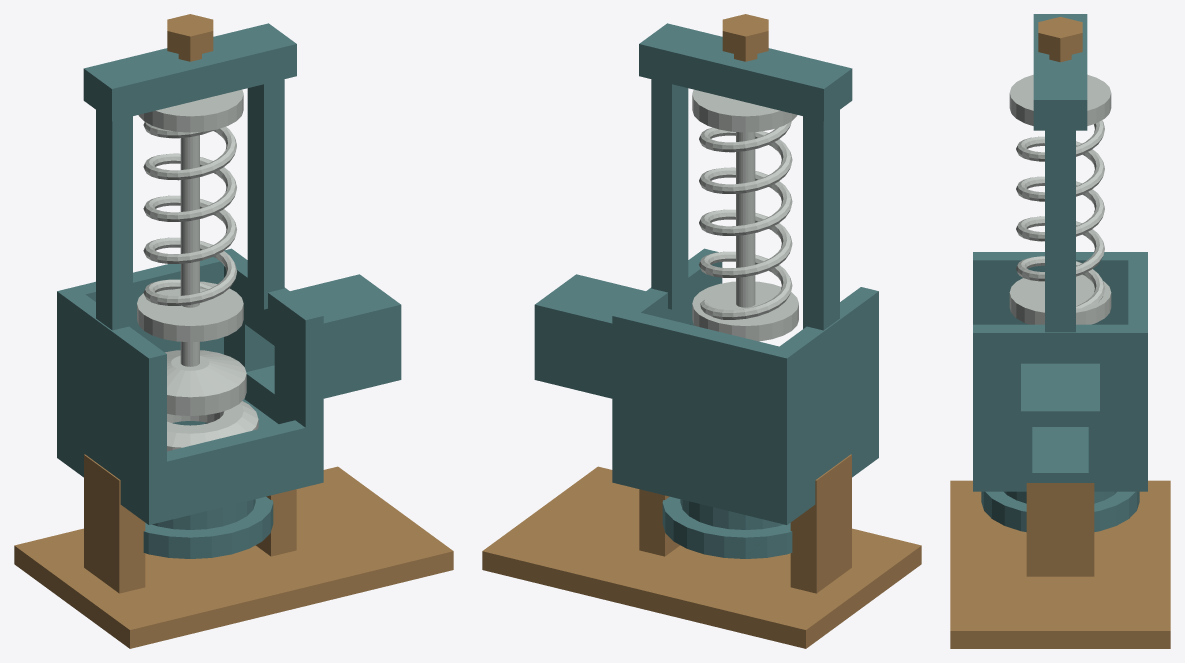
3 renders of one model, left to right at view 1: azimuth 30°, elevation 25°; view 2: azimuth 150°, elevation 25°; view 3: azimuth 270°, elevation 25°, orthographic. The views are drawn at different scales.
Parts seen in each view (by area): view 1: WholeCutawayChamberAndOpenSideBranch, WholeFiniteDisplayPlinth, WholeUpperBonnetCrosshead, WholeUpperBonnetPost1, WholeUpperBonnetPost-1, WholeRaisedDiskAndContinuousValveStem, WholeContinuousOpenCoilSpring, WholeSideBodySupport-1, WholeLowerBoredInletAndFlange, LowerWholeSpringSeat, UpperWholeSpringSeat, WholeIndependentAnnularPoppetSeat (+2 smaller); view 2: WholeCutawayChamberAndOpenSideBranch, WholeFiniteDisplayPlinth, WholeUpperBonnetCrosshead, WholeUpperBonnetPost1, WholeContinuousOpenCoilSpring, WholeUpperBonnetPost-1, WholeSideBodySupport-1, WholeLowerBoredInletAndFlange, LowerWholeSpringSeat, UpperWholeSpringSeat, WholeRaisedDiskAndContinuousValveStem, WholeUpperAdjustingStemAndHexCap (+1 smaller); view 3: WholeCutawayChamberAndOpenSideBranch, WholeFiniteDisplayPlinth, WholeSideBodySupport1, WholeUpperBonnetPost1, WholeContinuousOpenCoilSpring, WholeUpperBonnetCrosshead, WholeLowerBoredInletAndFlange, LowerWholeSpringSeat, UpperWholeSpringSeat, WholeUpperAdjustingStemAndHexCap.
Part boxes in pixels (x1=…): WholeCutawayChamberAndOpenSideBranch: x1=57, y1=248, x2=401, y2=524; WholeFiniteDisplayPlinth: x1=14, y1=466, x2=453, y2=648; WholeUpperBonnetCrosshead: x1=83, y1=23, x2=296, y2=121; WholeUpperBonnetPost1: x1=247, y1=79, x2=284, y2=309; WholeUpperBonnetPost-1: x1=96, y1=110, x2=132, y2=330; WholeRaisedDiskAndContinuousValveStem: x1=165, y1=135, x2=246, y2=415; WholeContinuousOpenCoilSpring: x1=143, y1=122, x2=236, y2=305; WholeSideBodySupport-1: x1=84, y1=454, x2=145, y2=593; WholeLowerBoredInletAndFlange: x1=143, y1=496, x2=273, y2=558; LowerWholeSpringSeat: x1=137, y1=281, x2=243, y2=342; UpperWholeSpringSeat: x1=138, y1=89, x2=243, y2=132; WholeIndependentAnnularPoppetSeat: x1=167, y1=401, x2=258, y2=451; WholeCutawayChamberAndOpenSideBranch: x1=534, y1=248, x2=878, y2=524; WholeFiniteDisplayPlinth: x1=482, y1=466, x2=921, y2=648; WholeUpperBonnetCrosshead: x1=639, y1=23, x2=852, y2=121; WholeUpperBonnetPost1: x1=651, y1=79, x2=688, y2=309; WholeContinuousOpenCoilSpring: x1=699, y1=121, x2=792, y2=319; WholeUpperBonnetPost-1: x1=803, y1=110, x2=839, y2=330; WholeSideBodySupport-1: x1=790, y1=454, x2=851, y2=593; WholeLowerBoredInletAndFlange: x1=662, y1=496, x2=792, y2=558; LowerWholeSpringSeat: x1=692, y1=281, x2=798, y2=341; UpperWholeSpringSeat: x1=692, y1=89, x2=797, y2=132; WholeRaisedDiskAndContinuousValveStem: x1=736, y1=132, x2=755, y2=307; WholeUpperAdjustingStemAndHexCap: x1=722, y1=14, x2=768, y2=61; WholeCutawayChamberAndOpenSideBranch: x1=973, y1=252, x2=1147, y2=491; WholeFiniteDisplayPlinth: x1=950, y1=480, x2=1170, y2=648; WholeSideBodySupport1: x1=1026, y1=483, x2=1094, y2=576; WholeUpperBonnetPost1: x1=1045, y1=130, x2=1075, y2=332; WholeContinuousOpenCoilSpring: x1=1016, y1=120, x2=1104, y2=308; WholeUpperBonnetCrosshead: x1=1033, y1=14, x2=1087, y2=130; WholeLowerBoredInletAndFlange: x1=981, y1=491, x2=1139, y2=532; LowerWholeSpringSeat: x1=1009, y1=274, x2=1111, y2=324; UpperWholeSpringSeat: x1=1009, y1=74, x2=1111, y2=125; WholeUpperAdjustingStemAndHexCap: x1=1038, y1=17, x2=1082, y2=62.
Size of the model in its own units: 1.26 by 2.06 by 0.78.
